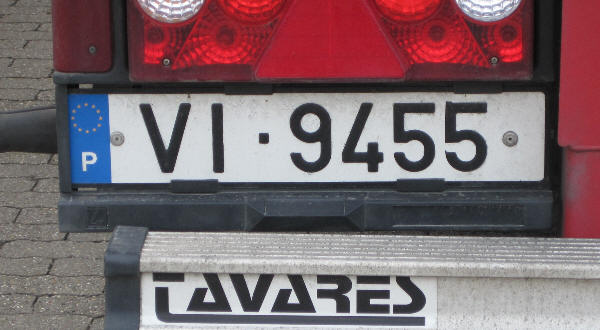license_plate: (65, 89, 548, 188)
